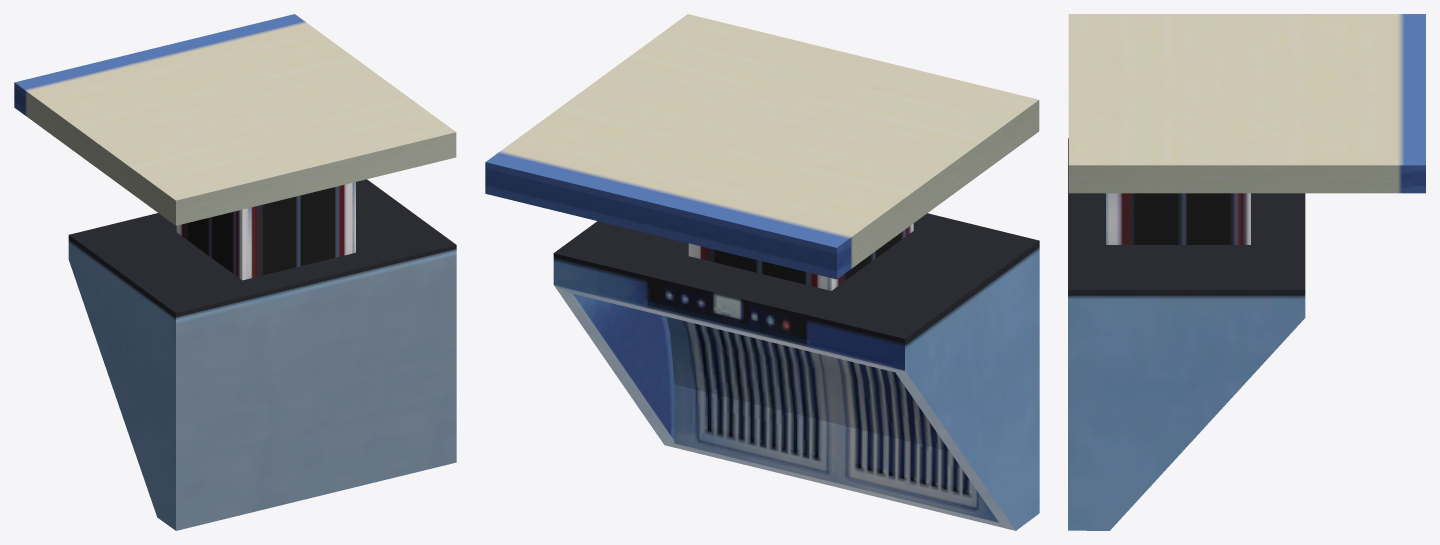
File: furni_0200523.FBX
3 renders of one model, left to right at view 1: azimuth 30°, elevation 25°; view 2: azimuth 150°, elevation 25°; view 3: azimuth 270°, elevation 25°, orthographic. The views are drawn at different scales.
Parts seen in each view (by area): view 1: furni_0200523; view 2: furni_0200523; view 3: furni_0200523.
Part boxes in pixels (x1,y1,x2,y2): furni_0200523: (14, 14, 456, 530); furni_0200523: (485, 14, 1039, 530); furni_0200523: (1068, 14, 1425, 530).
Bounding box in the file's own units: 80.01 × 90.06 × 79.89.
Materials: 1 (1 with a texture image).
